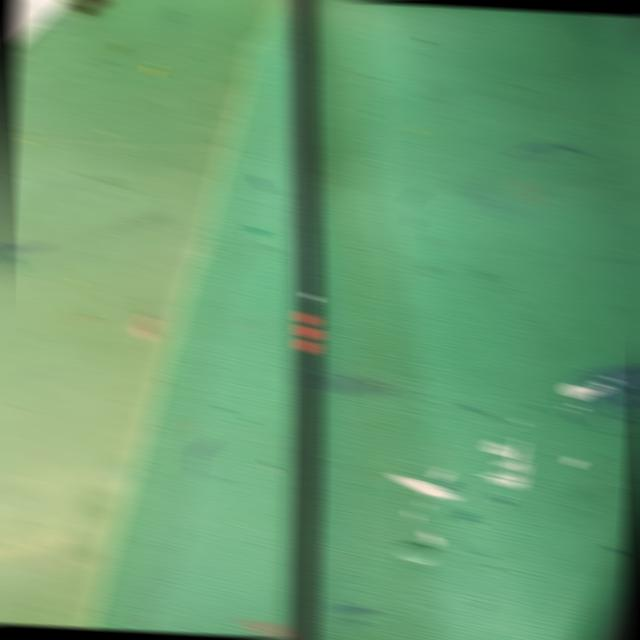red: (293, 310, 324, 355)
